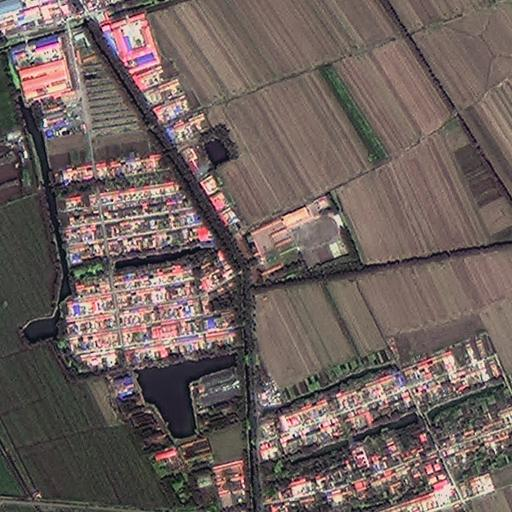school: (246, 193, 350, 273)
